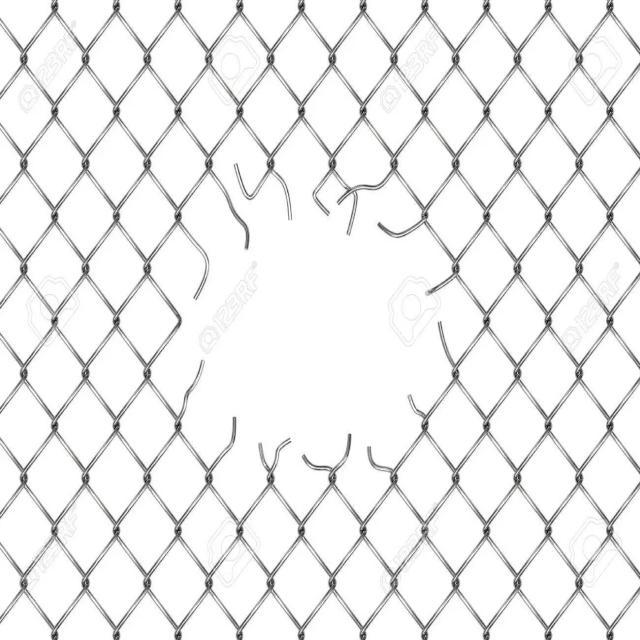fence line: (120, 129, 517, 502)
